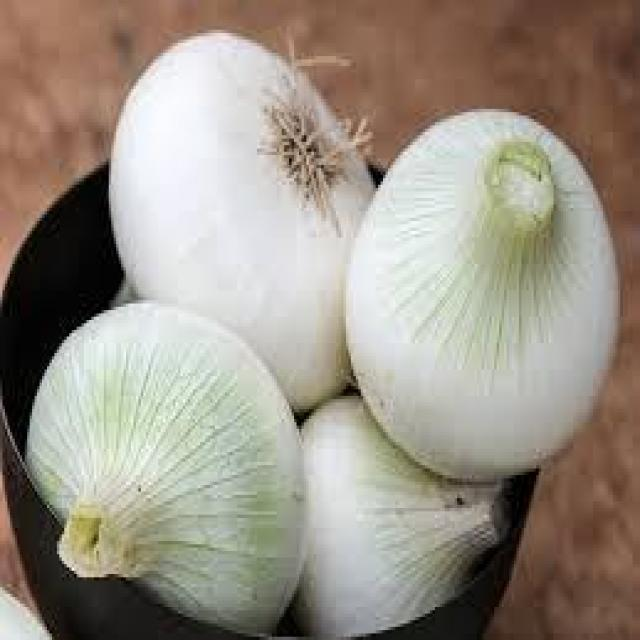Onion: (338, 109, 640, 475), (107, 18, 377, 404), (29, 295, 310, 635), (285, 378, 513, 632)
